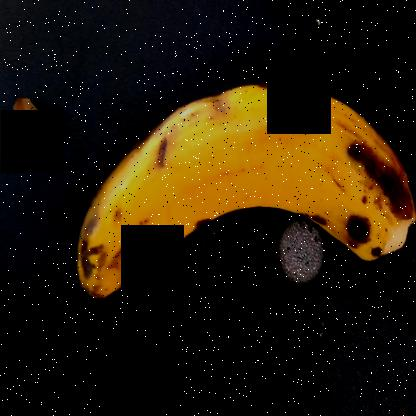overripe: (54, 64, 416, 332)
